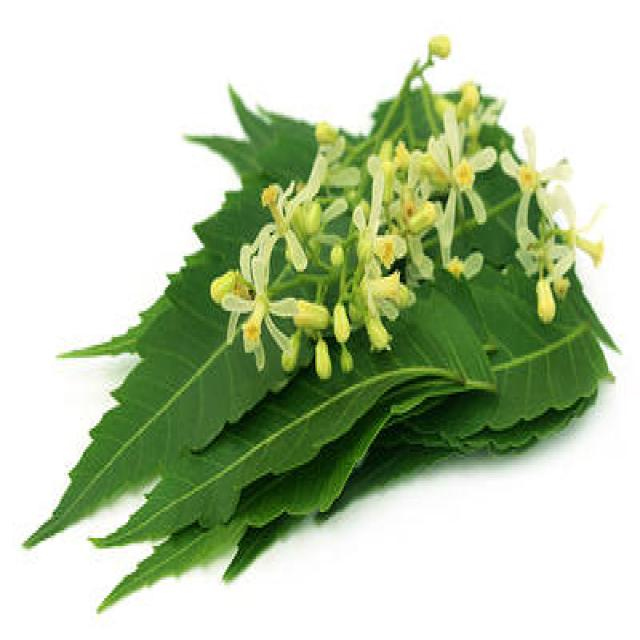Medicinal-Neem: (20, 31, 618, 630)
